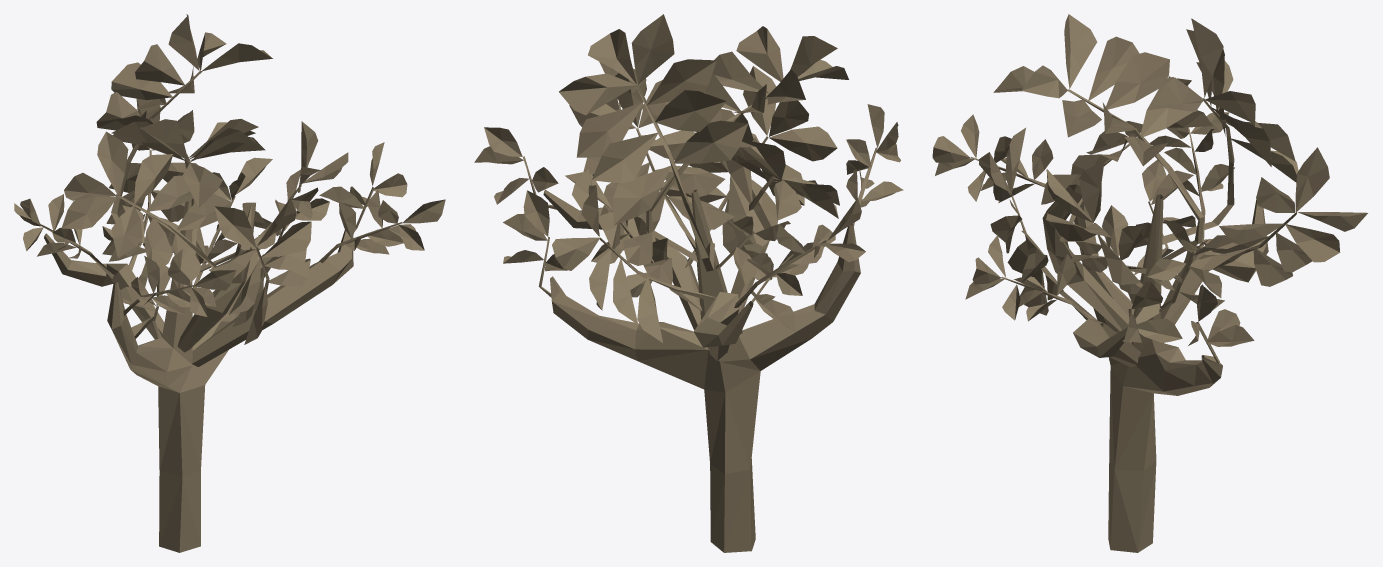
File: Peach_6_4.fbx
3 renders of one model, left to right at view 1: azimuth 30°, elevation 25°; view 2: azimuth 150°, elevation 25°; view 3: azimuth 270°, elevation 25°, orthographic. The views are drawn at different scales.
Parts seen in each view (by area): view 1: Peach_6_4; view 2: Peach_6_4; view 3: Peach_6_4.
Boxes of the visible parts, x1,y1,x2,y2 form: Peach_6_4: (14, 14, 445, 552); Peach_6_4: (474, 14, 903, 552); Peach_6_4: (932, 14, 1367, 552).
Size of the model in its own units: 446 by 574 by 416.
